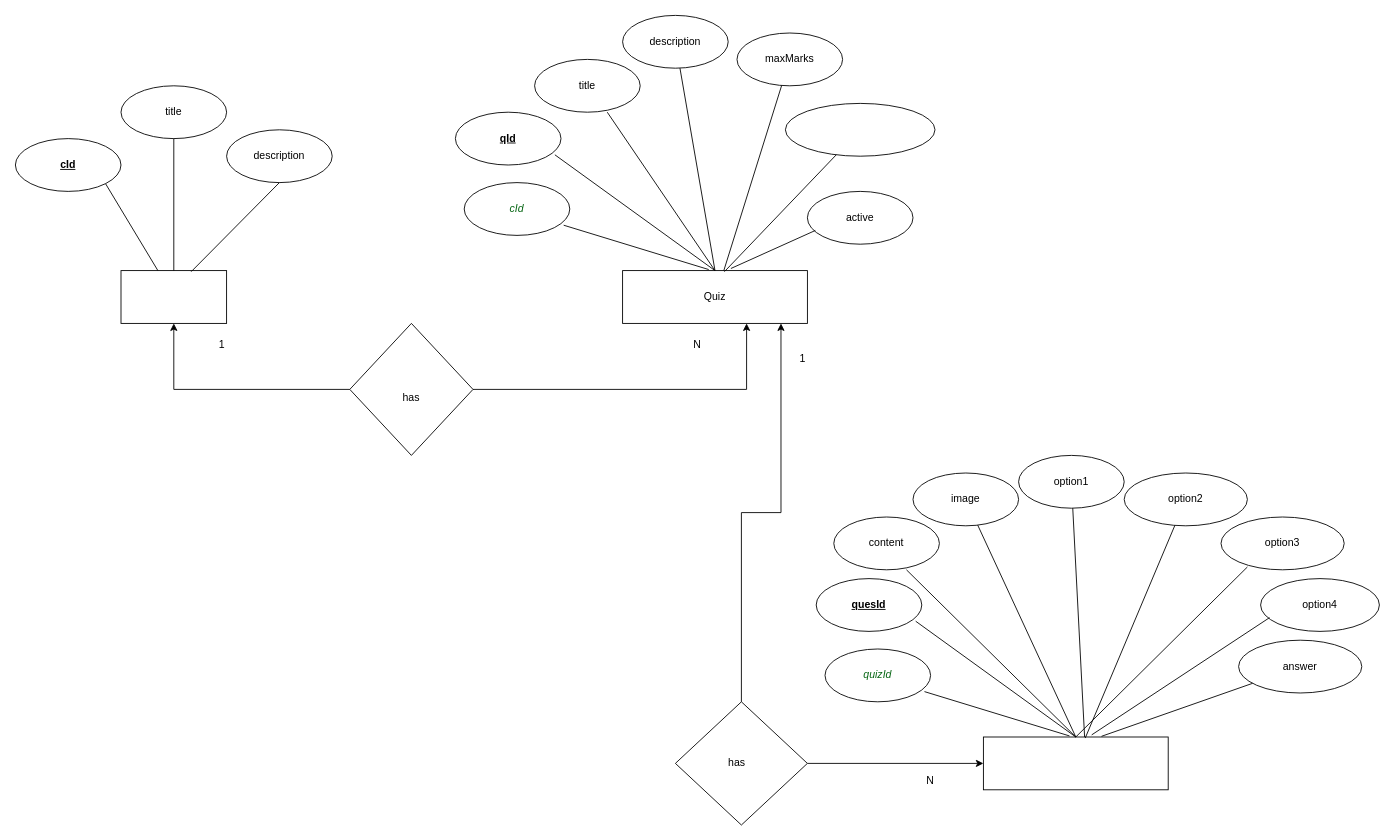
The diagram is 1395 pixels wide and 840 high, and some of its shapes have lost their labels. Here are the shapes that lost their labels. From the top down, the centre of each, then its label:
the point at 860,129: numberOfQuestions
the point at 173,296: Category
the point at 1075,763: Question
